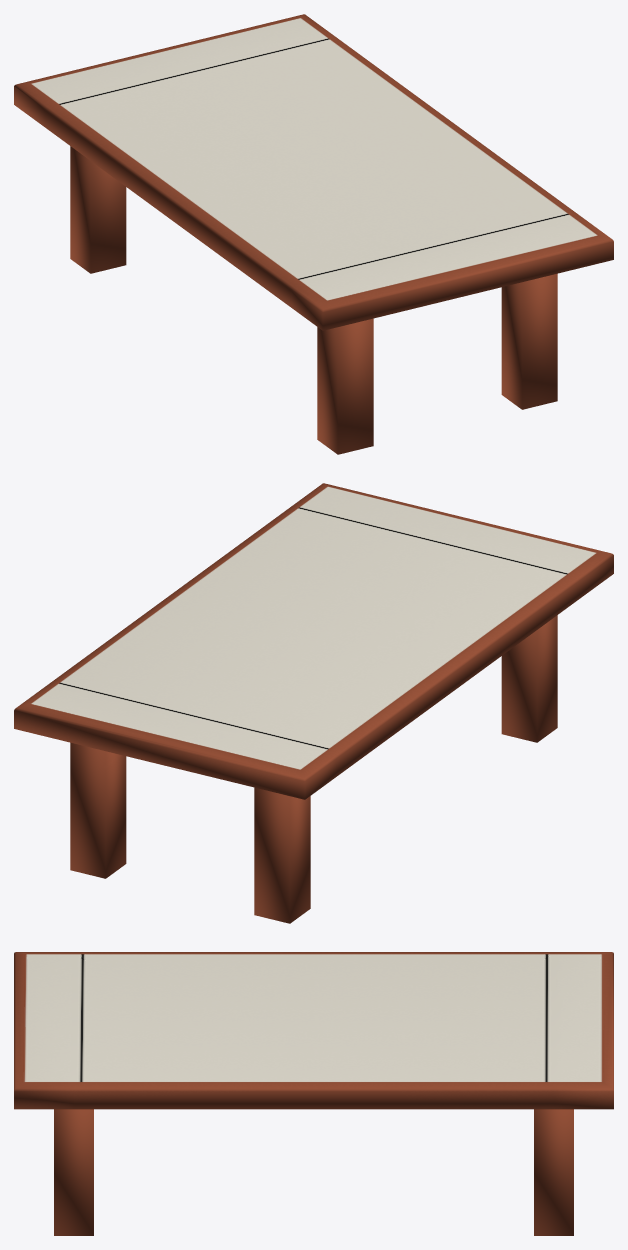
File: nesTable.glb
3 renders of one model, top to bottom at view 1: azimuth 30°, elevation 25°; view 2: azimuth 150°, elevation 25°; view 3: azimuth 270°, elevation 25°, orthographic. The views are drawn at different scales.
Parts seen in each view (by area): view 1: nesTable_basic; view 2: nesTable_basic; view 3: nesTable_basic.
Boxes of the visible parts, left/top/right/bottom form: nesTable_basic: left=14, top=14, right=613, bottom=454; nesTable_basic: left=14, top=483, right=613, bottom=923; nesTable_basic: left=14, top=952, right=613, bottom=1235.
Size of the model in its own units: 3.27 by 1.83 by 6.01.
1 material, 1 textured.
